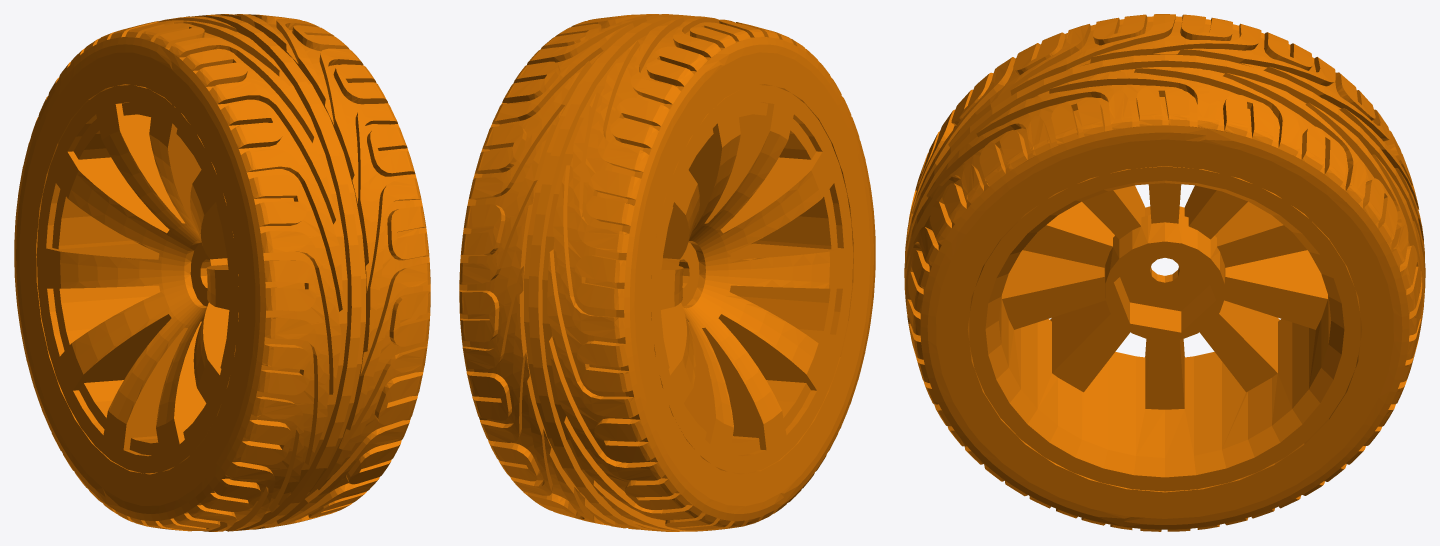
The model's file is front_left_wheel.dae.
3 renders of one model, left to right at view 1: azimuth 30°, elevation 25°; view 2: azimuth 150°, elevation 25°; view 3: azimuth 270°, elevation 25°, orthographic.
Visible parts, largest first — view 1: front_left_wheel; view 2: front_left_wheel; view 3: front_left_wheel.
Boxes of the visible parts, x1,y1,x2,y2 form: front_left_wheel: [14, 14, 430, 531]; front_left_wheel: [459, 14, 875, 531]; front_left_wheel: [904, 14, 1425, 531].
Bounding box in the file's own units: 0.036 × 0.069 × 0.0696.
